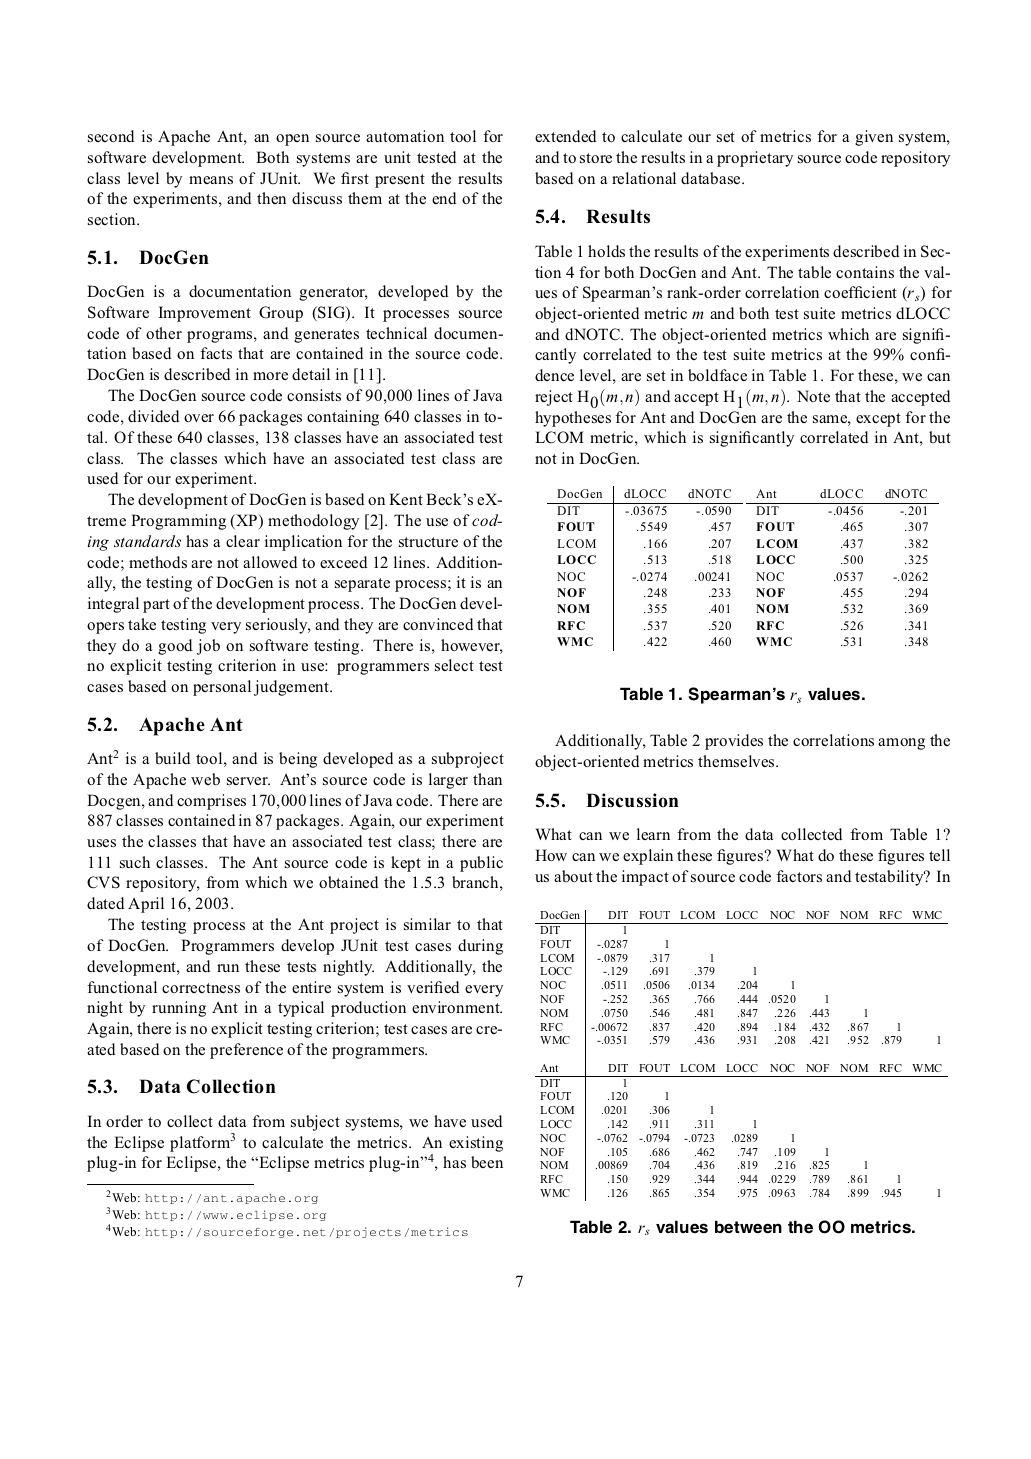Table: (534, 909, 947, 1201), (547, 485, 938, 651)
